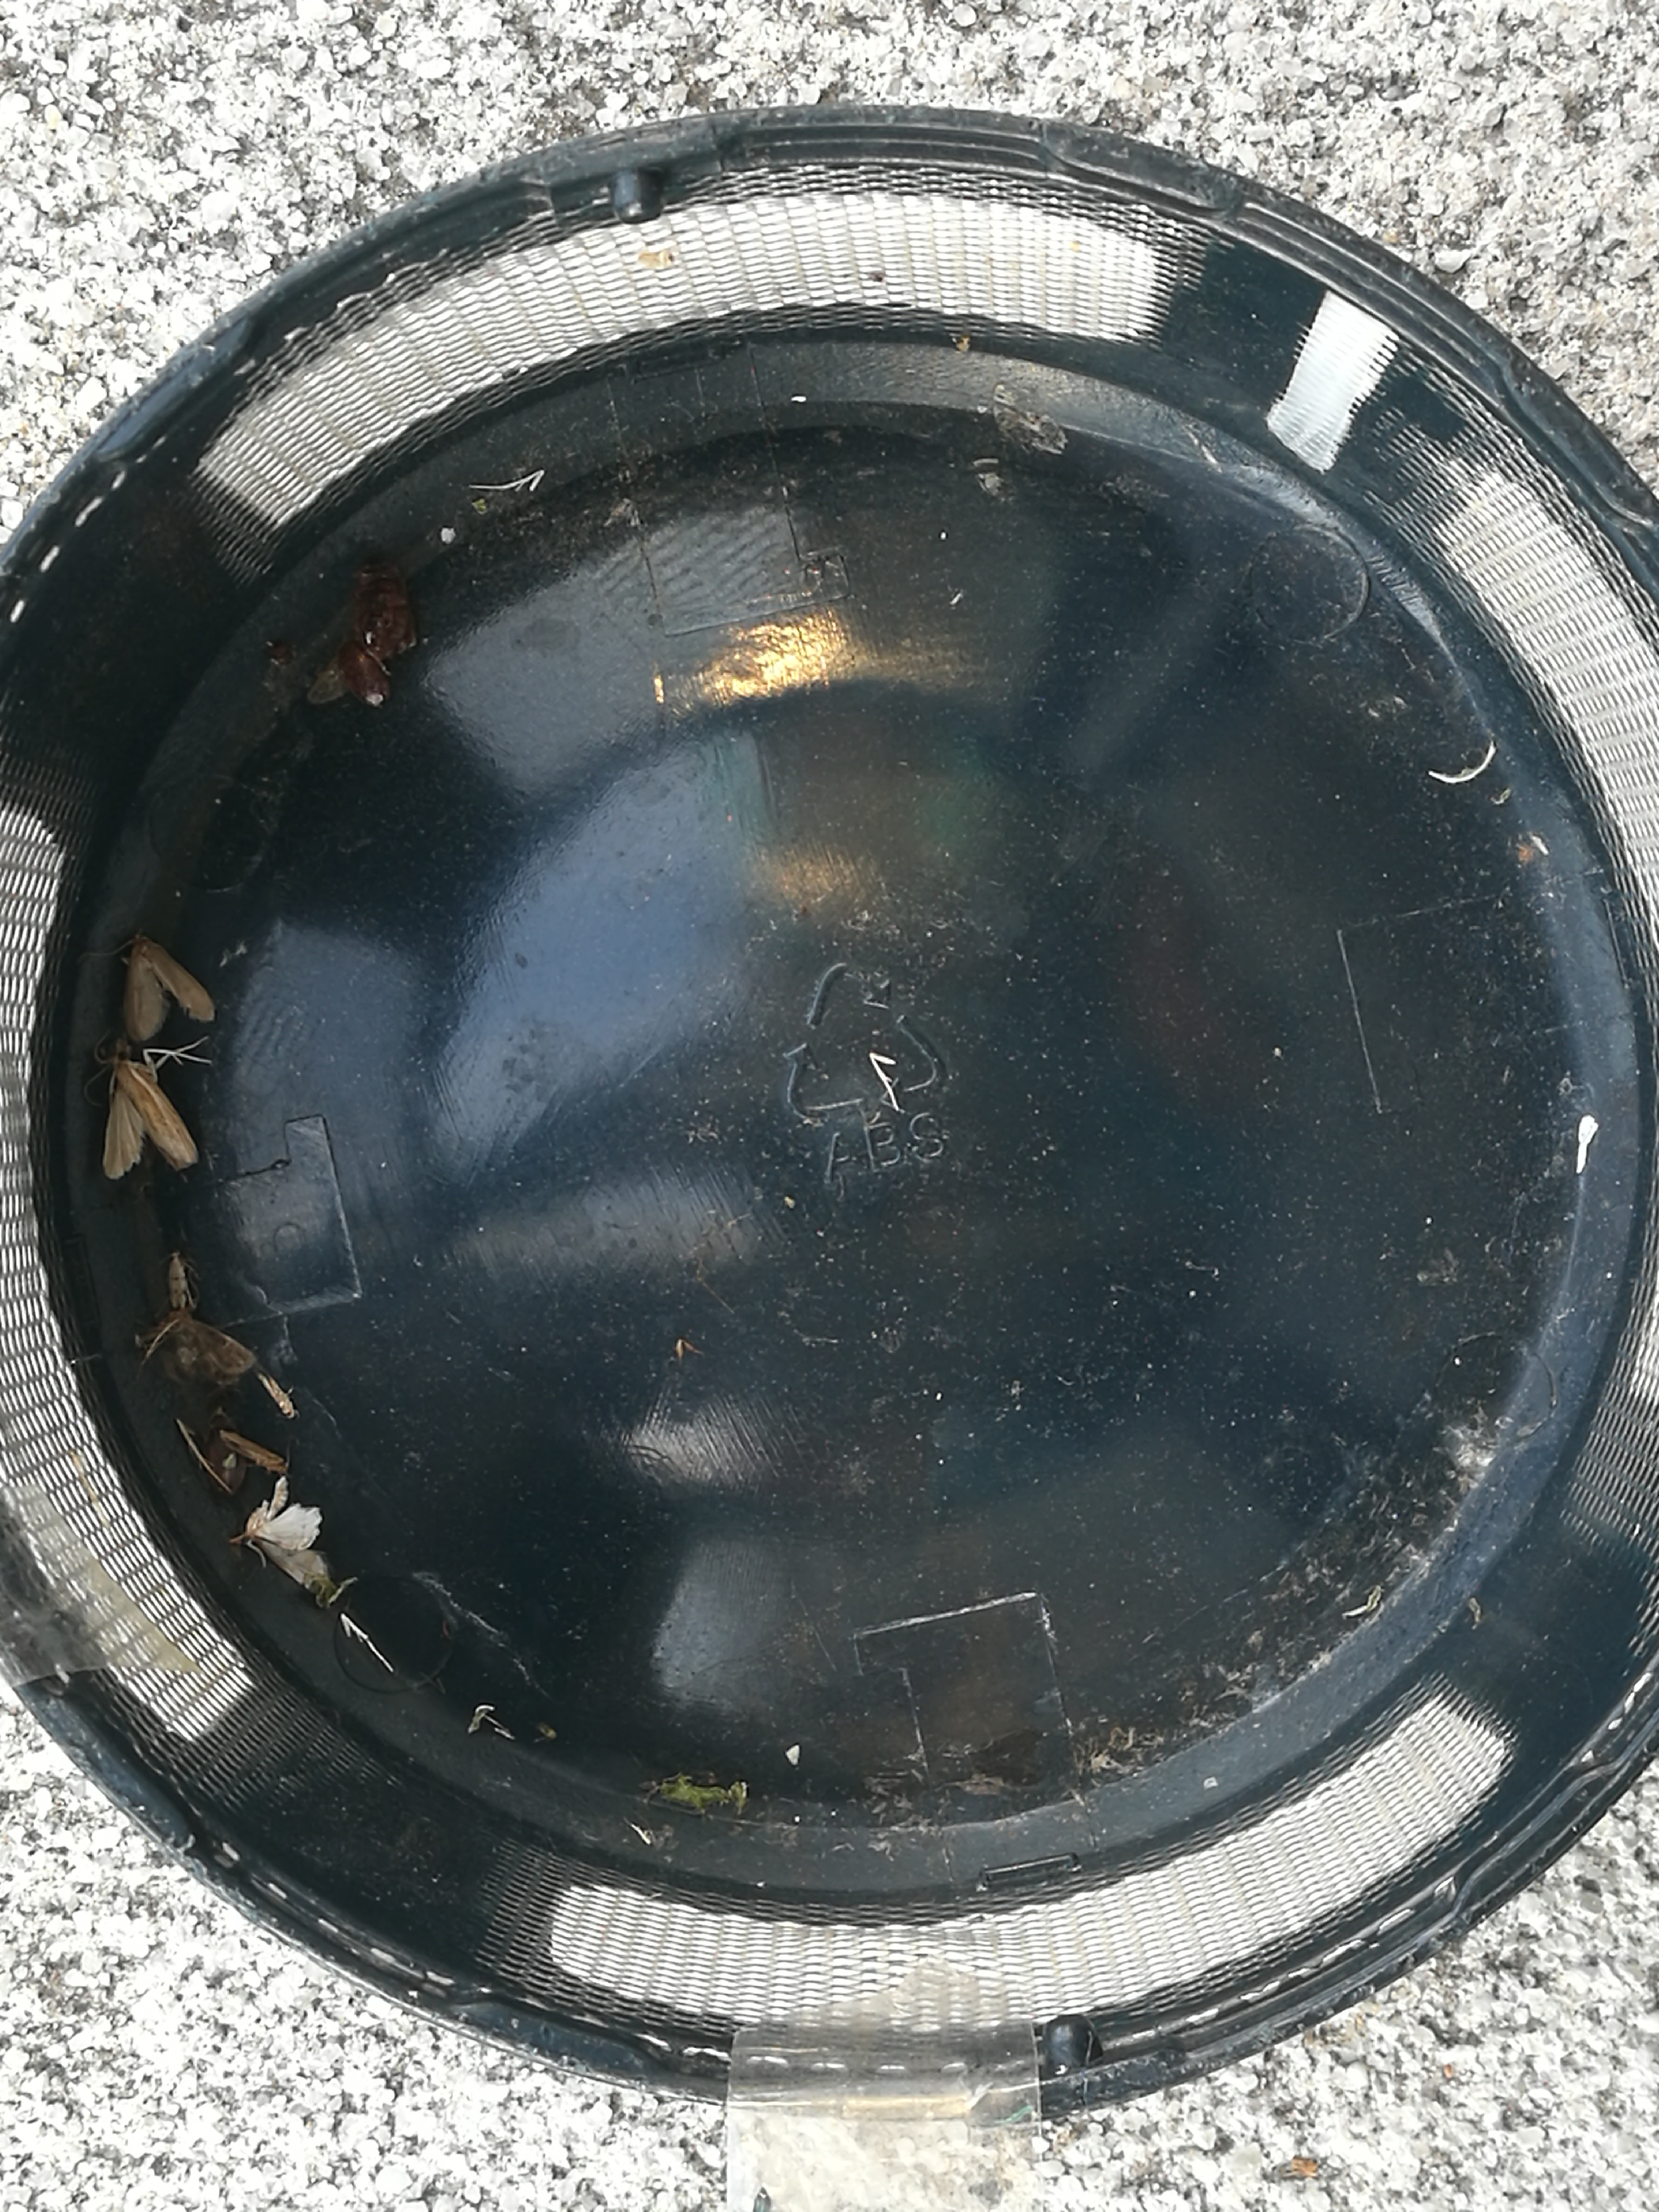mosquito: (220, 1430, 286, 1472), (169, 1251, 186, 1306)
moth: (105, 1045, 197, 1177), (228, 1477, 328, 1592), (122, 935, 214, 1042), (138, 1312, 256, 1374)
